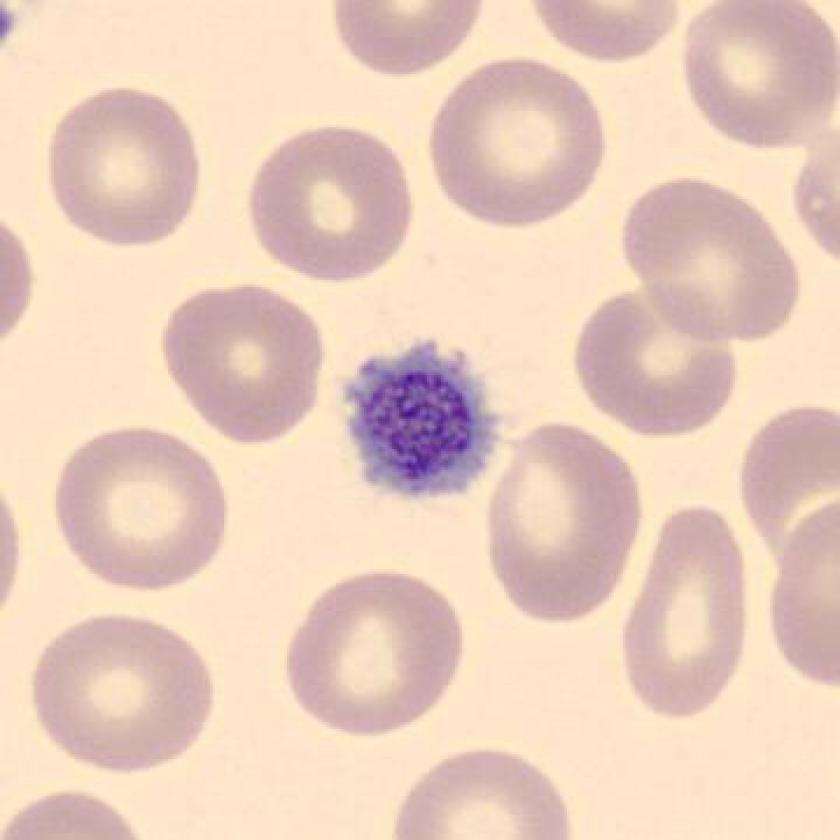platelets: (342, 336, 507, 501)
